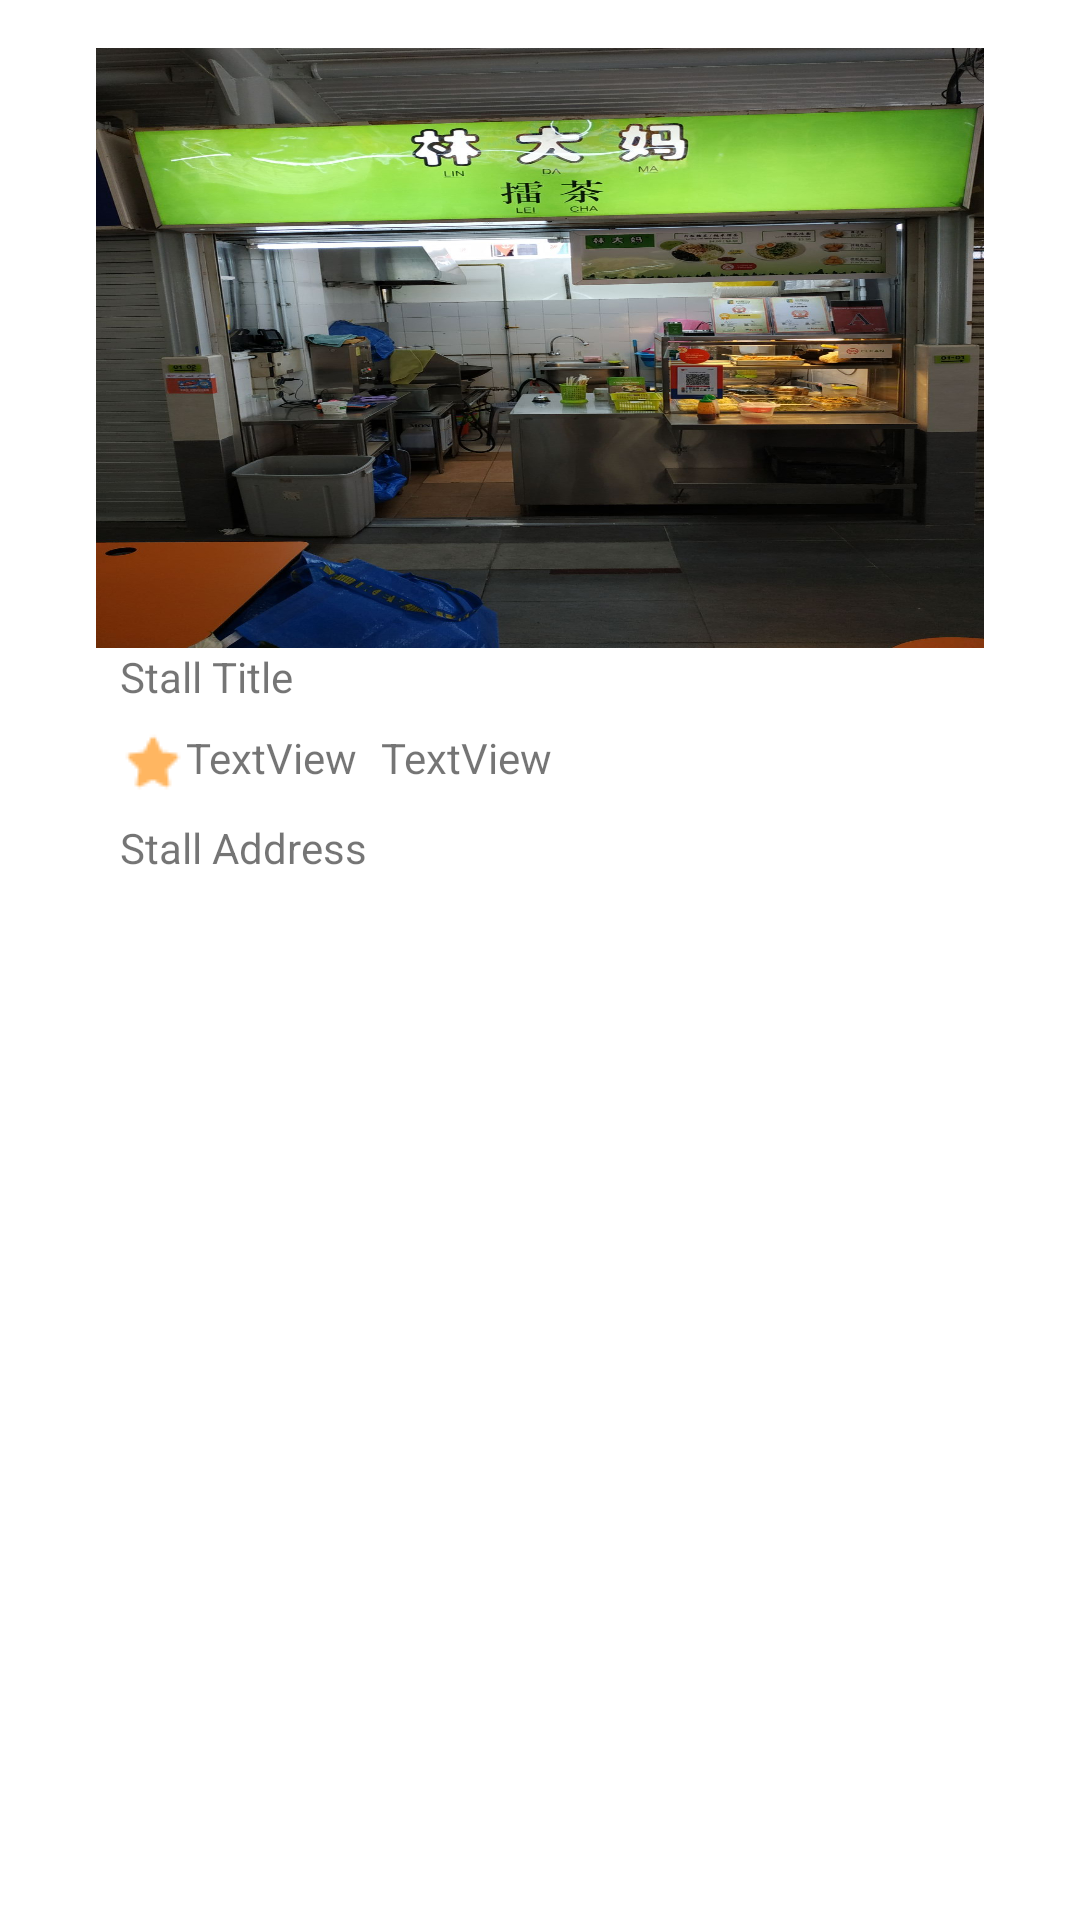

Where icons sit on this 1080px×1920px app screen, as (x1, y1, x2, y2):
A gold star to represent the rating of the stall: (127, 737, 180, 788)
